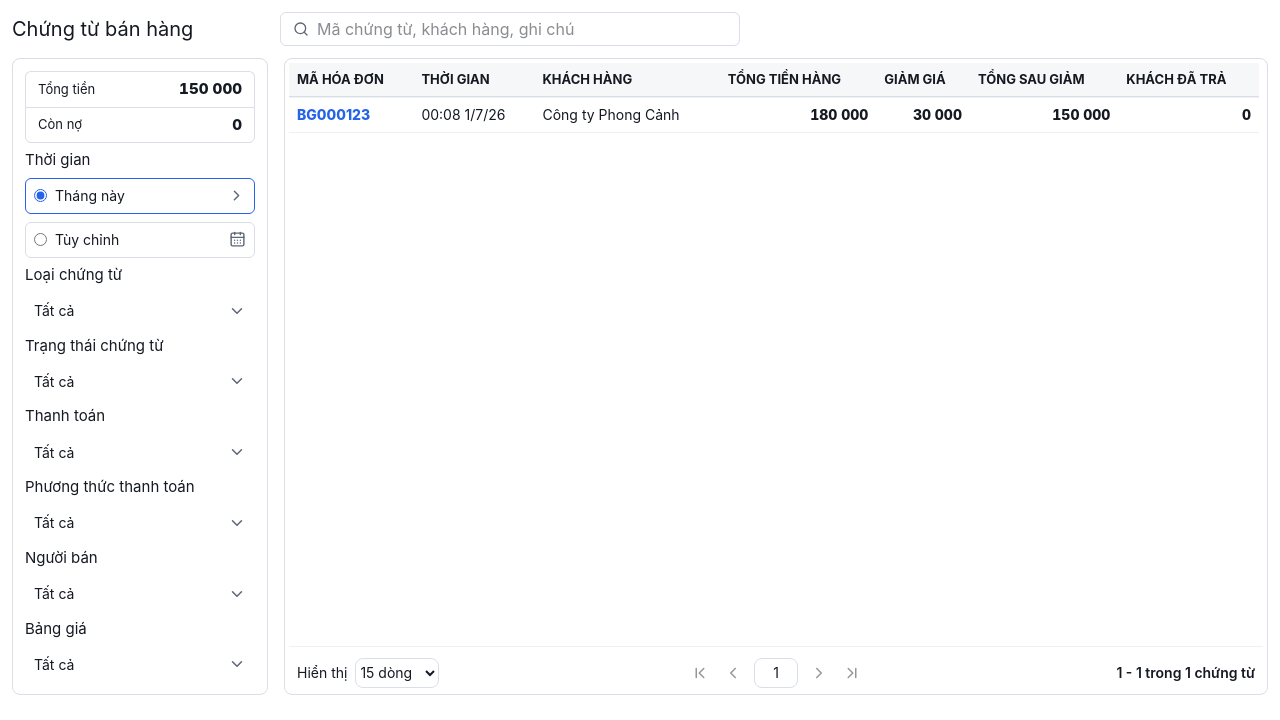
Test: filters quotes and exposes reopen only for active quote rows
Expected: the text "BG000123" is shown, x1=297 y1=106 x2=370 y2=124
Select "Báo giá" in the dropdown named "Loại chứng từ": (140, 310) x1=25 y1=292 x2=255 y2=328
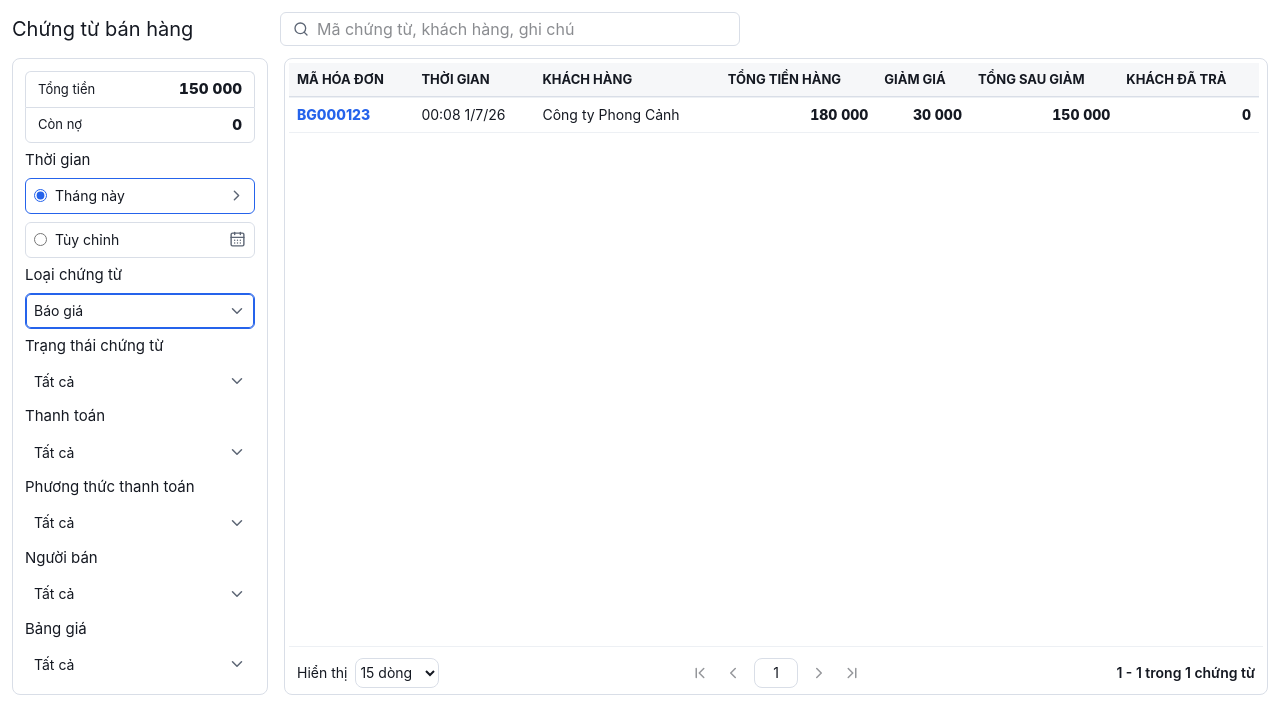
Select "Đang hiệu lực" in the dropdown named "Trạng thái chứng từ": (140, 381) x1=25 y1=363 x2=255 y2=399
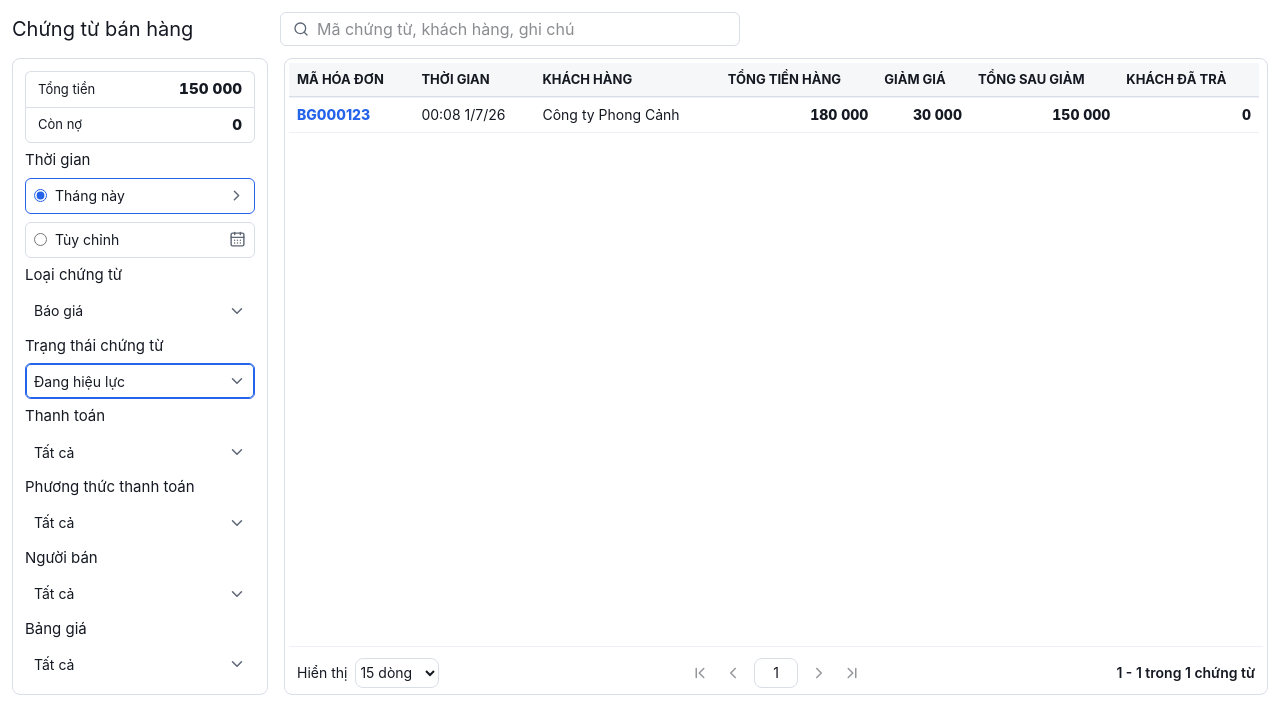
Click the text "BG000123": (774, 115) x1=289 y1=97 x2=1259 y2=133
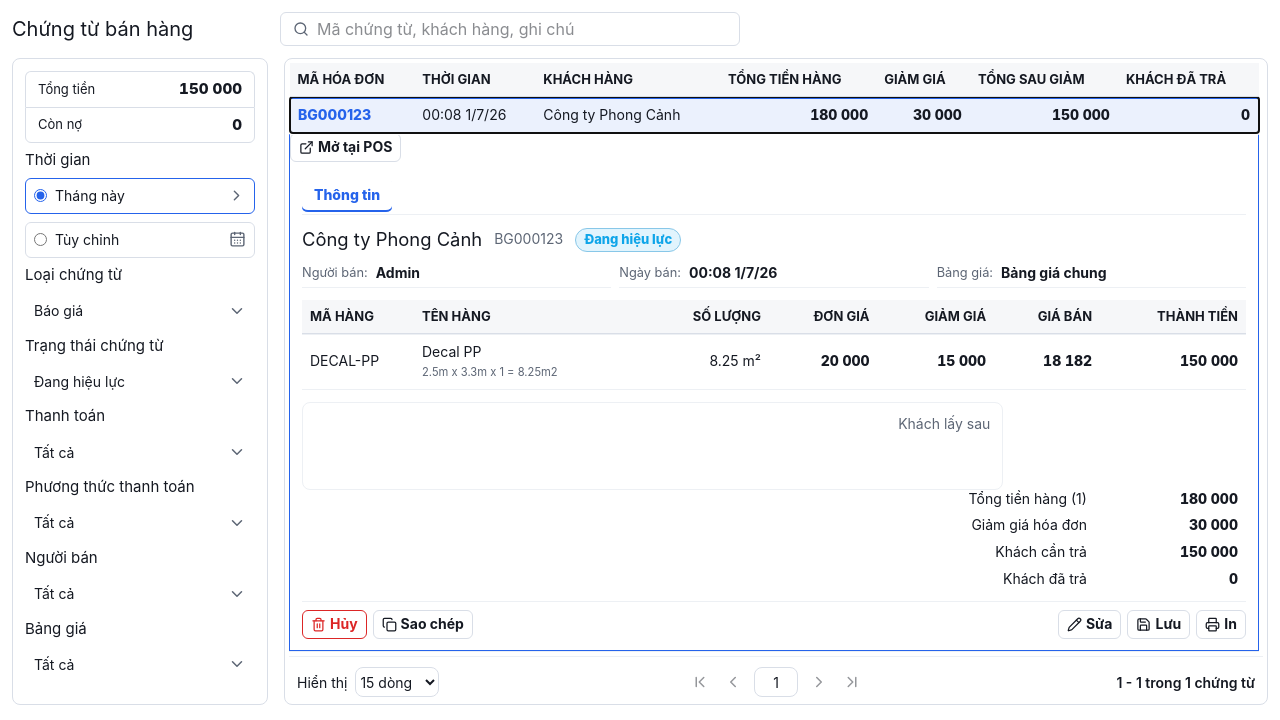
Expected: the button "Mở tại POS" is shown, x1=290 y1=133 x2=401 y2=162
Expected: the button "Hủy" is enabled, x1=302 y1=610 x2=367 y2=639
Expected: the button "Sao chép" is enabled, x1=373 y1=610 x2=473 y2=639
